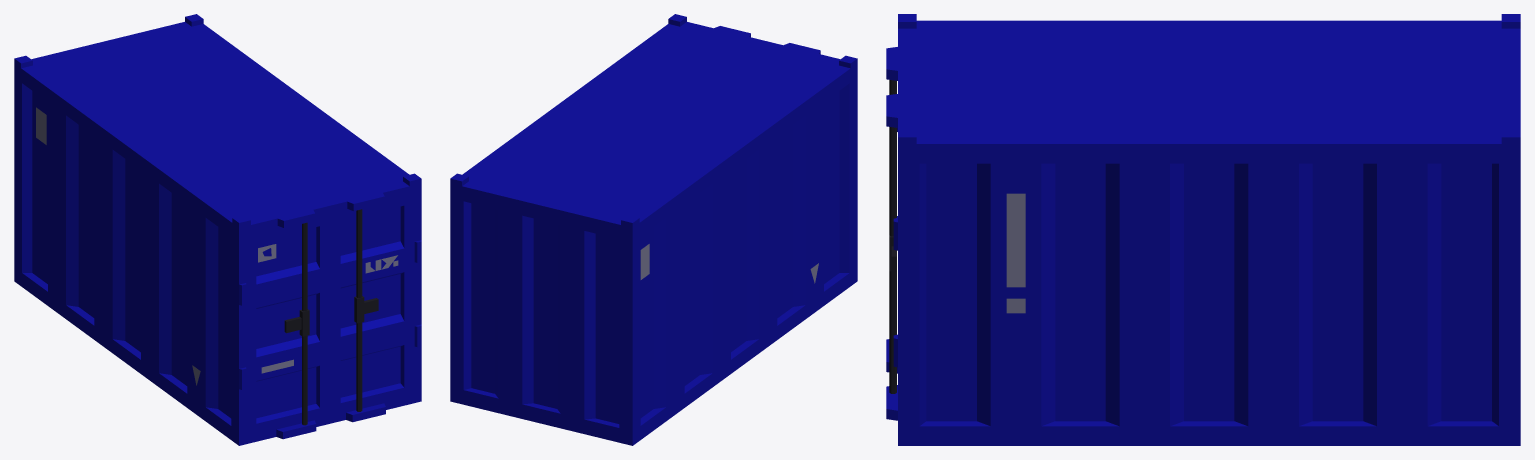
Rendered from container.FBX.
3 renders of one model, left to right at view 1: azimuth 30°, elevation 25°; view 2: azimuth 150°, elevation 25°; view 3: azimuth 270°, elevation 25°, orthographic. The views are drawn at different scales.
Parts seen in each view (by area): view 1: Shipping_container; view 2: Shipping_container; view 3: Shipping_container.
Boxes of the visible parts, left/top/right/bottom form: Shipping_container: left=14, top=14, right=421, bottom=445; Shipping_container: left=450, top=14, right=857, bottom=445; Shipping_container: left=886, top=14, right=1520, bottom=445.
Size of the model in its own units: 10.84 by 12.67 by 23.58.
